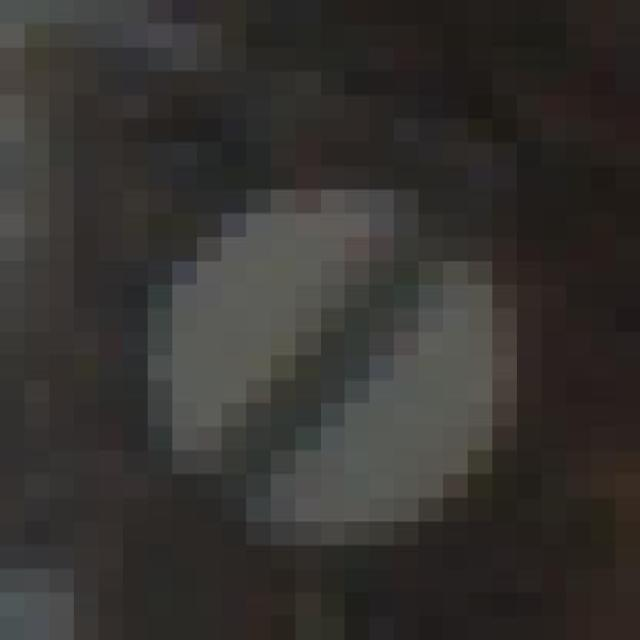End of all speed and passing limits: (102, 148, 570, 550)
